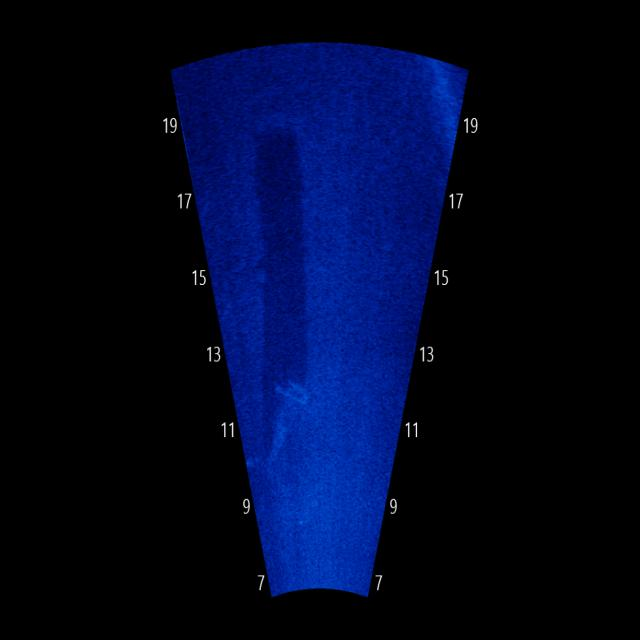triangle: (266, 370, 326, 475)
